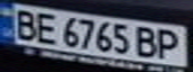5: (112, 20, 136, 56)
6: (57, 15, 81, 48), (93, 19, 115, 53)
7: (75, 17, 96, 51)
B: (9, 7, 42, 40), (133, 25, 163, 58)
E: (30, 10, 60, 45)
P: (151, 27, 187, 61)
